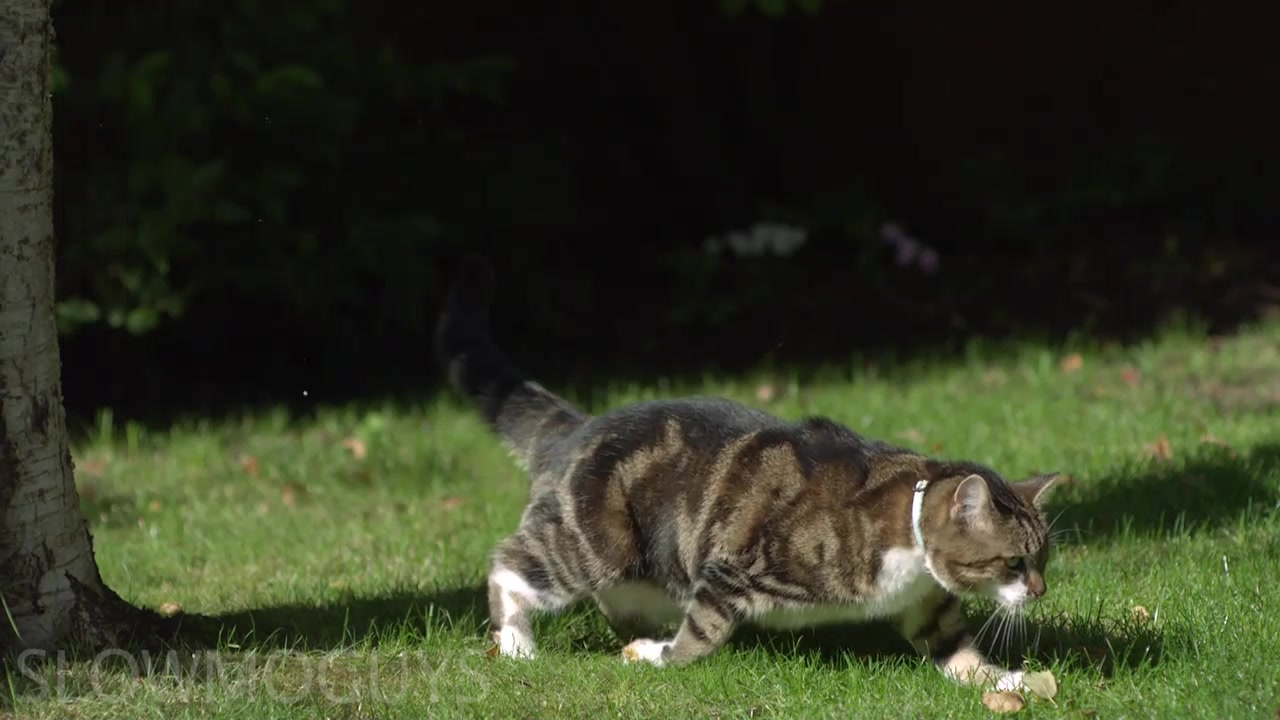cat: (447, 343, 1068, 690)
